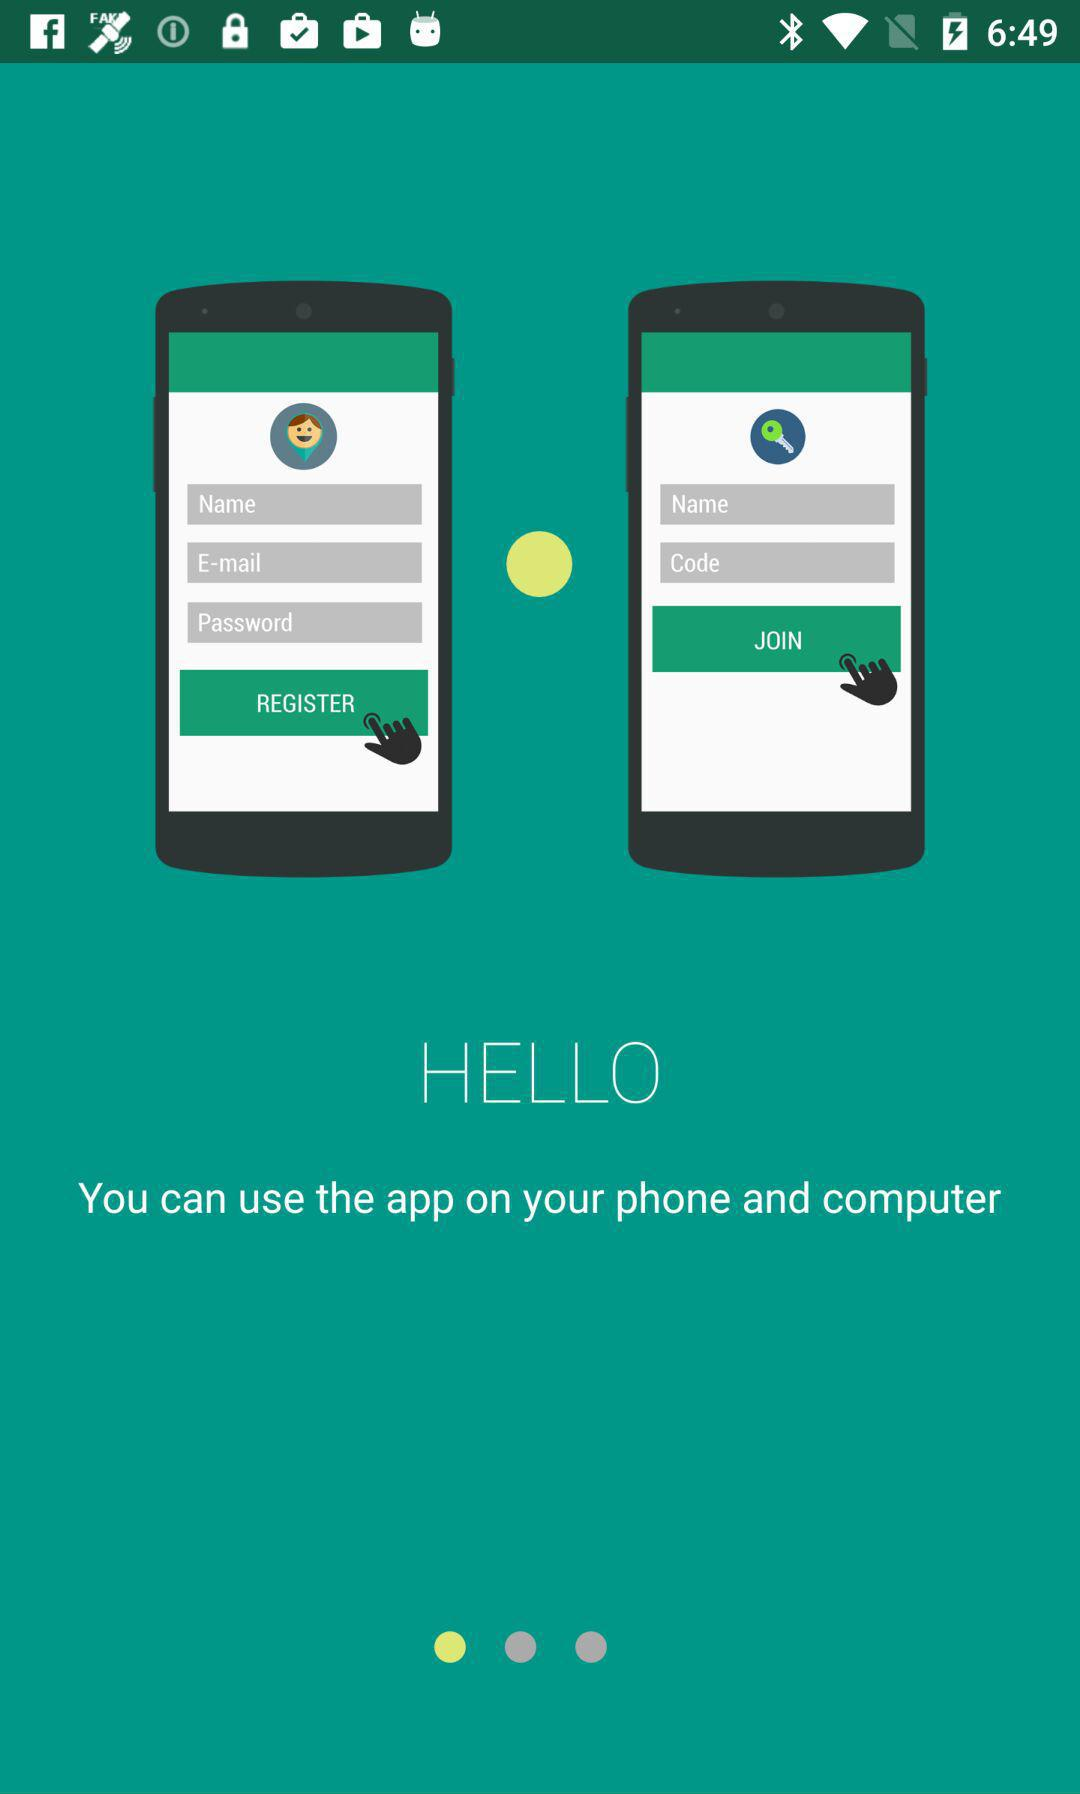Image: (152, 281, 456, 879), (625, 281, 929, 879), (506, 531, 574, 598)
PageIndicator: (433, 1630, 609, 1665)
Text: (77, 1180, 1002, 1224), (423, 1041, 660, 1105)
UpperTaskBar: (1, 1, 1080, 64)
